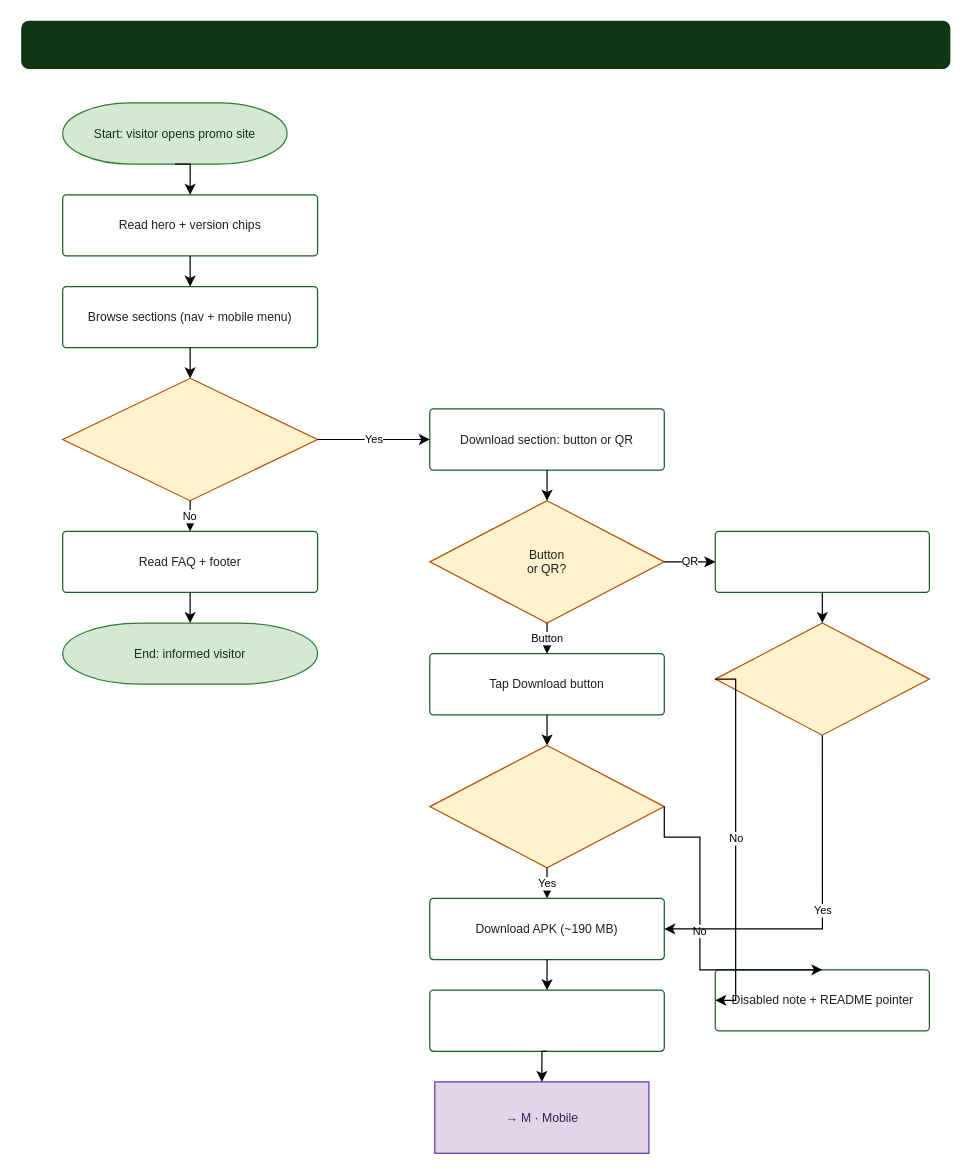
Image size: 971x1175. Some labels were removed from this diagram. The centre of each missing label's shape, as x and y in pixels:
Follow 5 install steps: pixel 546 1020
Install link live?: pixel 546 806
QR image present?: pixel 821 678
Scan QR code: pixel 821 561
Wants the app?: pixel 189 439
WEBSITE VISITOR JOURNEY: pixel 485 44
